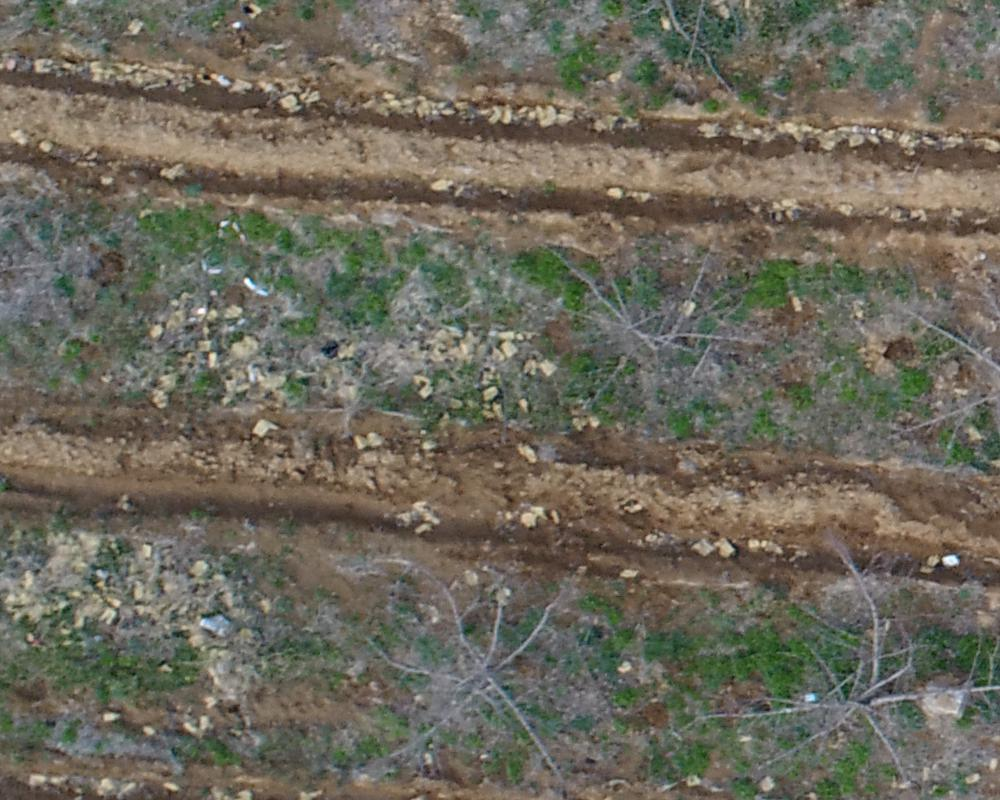apple: (675, 544, 990, 790), (313, 534, 604, 790), (503, 231, 757, 413), (854, 254, 990, 466)
